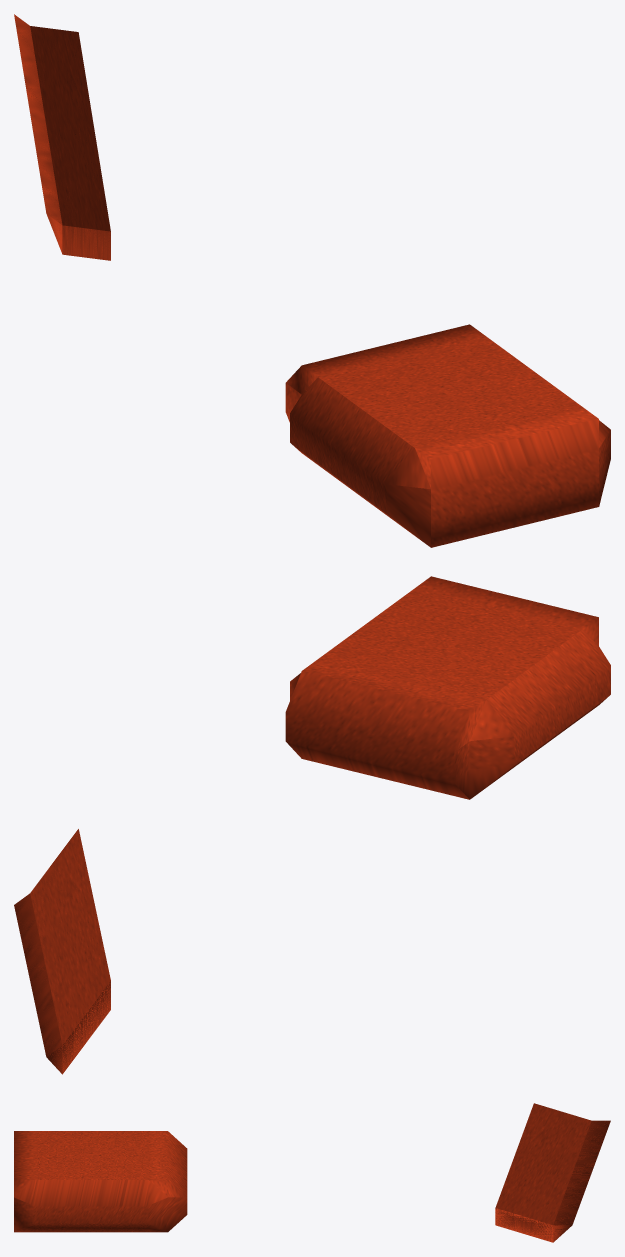
The picture shows the model from 3 angles, top to bottom: view 1: azimuth 30°, elevation 25°; view 2: azimuth 150°, elevation 25°; view 3: azimuth 270°, elevation 25°; orthographic projection. The views are drawn at different scales.
Size of the model in its own units: 1.36 by 1.36 by 5.27.
1 material, 1 textured.
